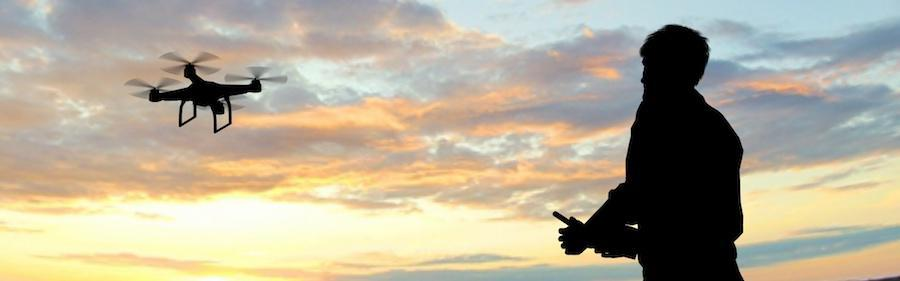drone: (128, 51, 284, 136)
